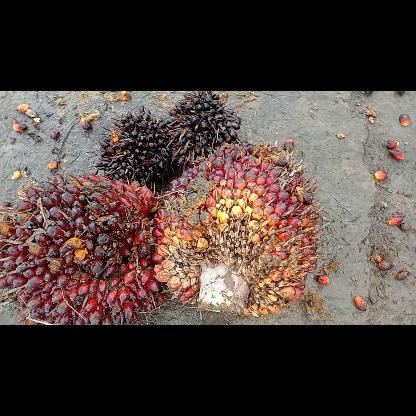TBS abnormal: (92, 101, 182, 190), (159, 92, 241, 166)
TBS masak: (149, 137, 323, 319), (0, 170, 168, 324)
